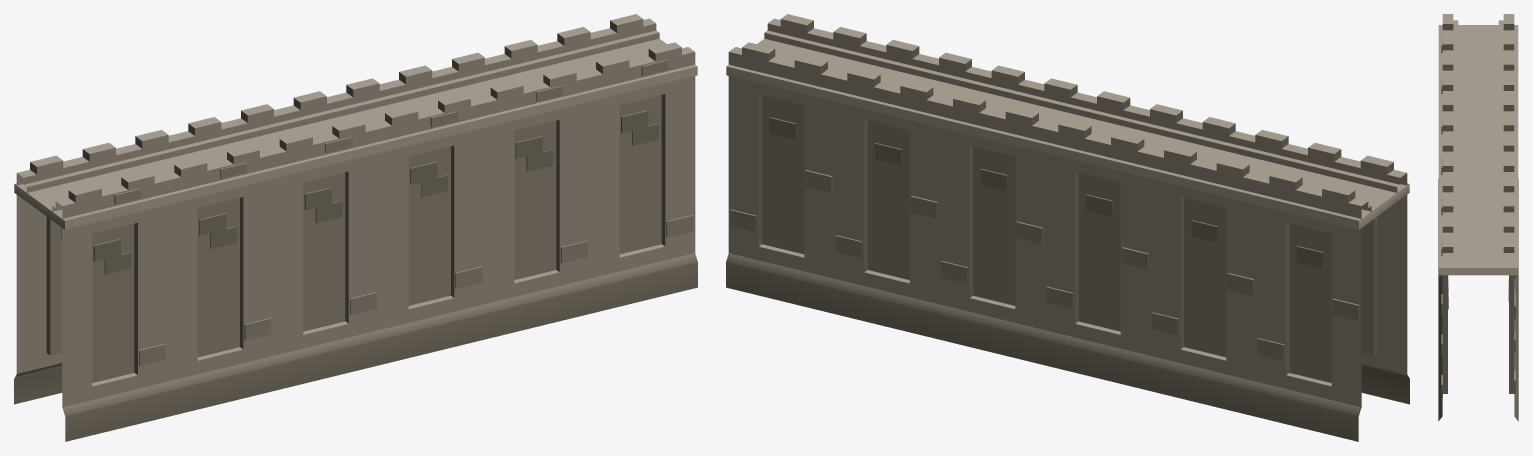
File: sce_wall.glb
3 views of the same model, side by side, from view 1: azimuth 30°, elevation 25°; view 2: azimuth 150°, elevation 25°; view 3: azimuth 270°, elevation 25° (orthographic). The views are drawn at different scales.
Visible parts, largest first — view 1: wall; view 2: wall; view 3: wall.
Boxes of the visible parts, x1,y1,x2,y2 form: wall: [14, 14, 697, 441]; wall: [726, 14, 1409, 441]; wall: [1438, 14, 1518, 421].
Size of the model in its own units: 6 by 2.19 by 0.84.
Materials: 1 (1 with a texture image).
